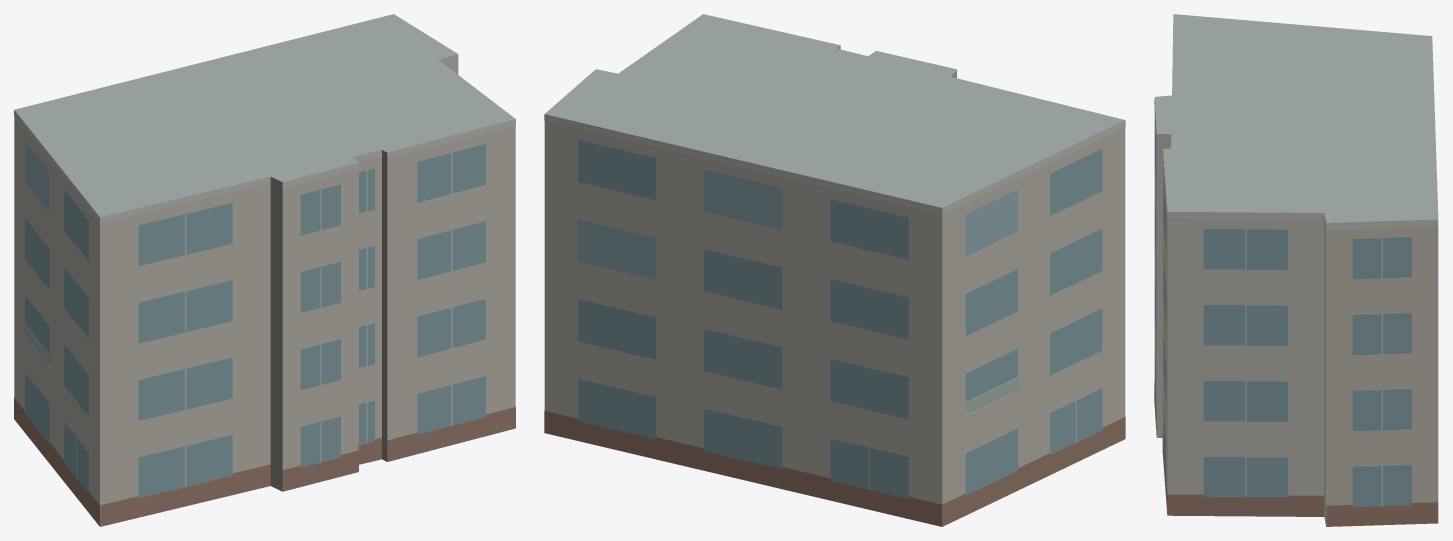
Rendered from survey-upis-32541335.glb.
3 views of the same model, side by side, from view 1: azimuth 30°, elevation 25°; view 2: azimuth 150°, elevation 25°; view 3: azimuth 270°, elevation 25° (orthographic). The views are drawn at different scales.
Visible parts, largest first — view 1: survey-upis-32541335.tmp; view 2: survey-upis-32541335.tmp; view 3: survey-upis-32541335.tmp.
Boxes of the visible parts, bbox=[...] form: survey-upis-32541335.tmp: bbox=[14, 14, 515, 526]; survey-upis-32541335.tmp: bbox=[544, 14, 1125, 526]; survey-upis-32541335.tmp: bbox=[1154, 14, 1438, 526].
Size of the model in its own units: 16.67 by 11.3 by 9.58.
